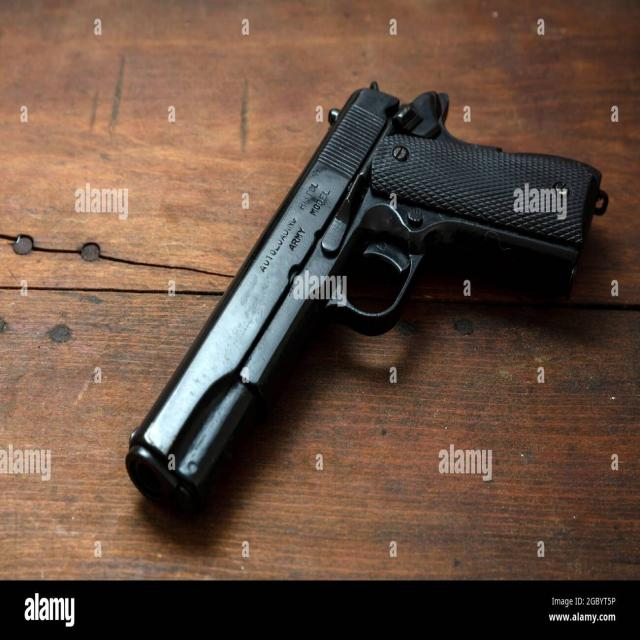HandGun: (125, 83, 601, 515)
